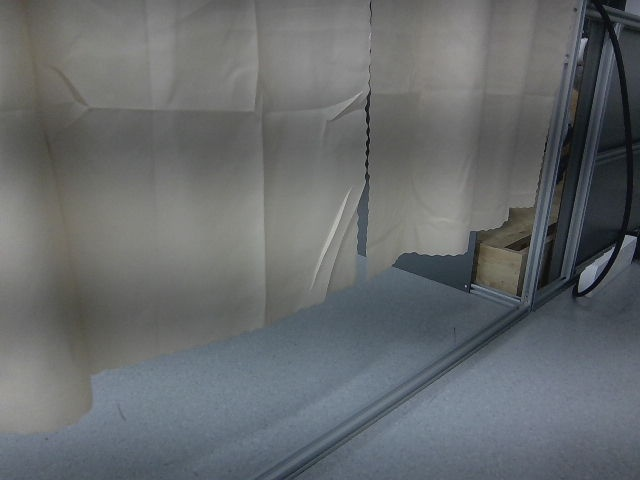curtain: (0, 0, 531, 394)
